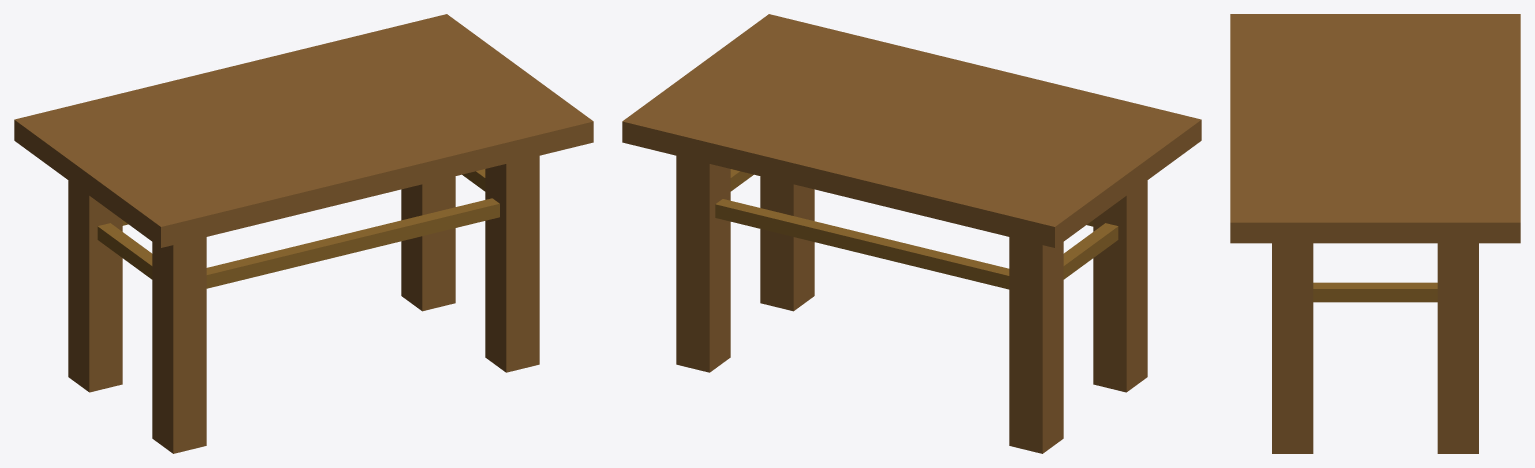
Rendered from Table.fbx.
3 renders of one model, left to right at view 1: azimuth 30°, elevation 25°; view 2: azimuth 150°, elevation 25°; view 3: azimuth 270°, elevation 25°, orthographic.
Parts seen in each view (by area): view 1: Cube.004; view 2: Cube.004; view 3: Cube.004.
Boxes of the visible parts, x1,y1,x2,y2 form: Cube.004: [14, 14, 593, 453]; Cube.004: [622, 14, 1201, 453]; Cube.004: [1230, 14, 1520, 453].
Bounding box in the file's own units: 340 × 188 × 200.
